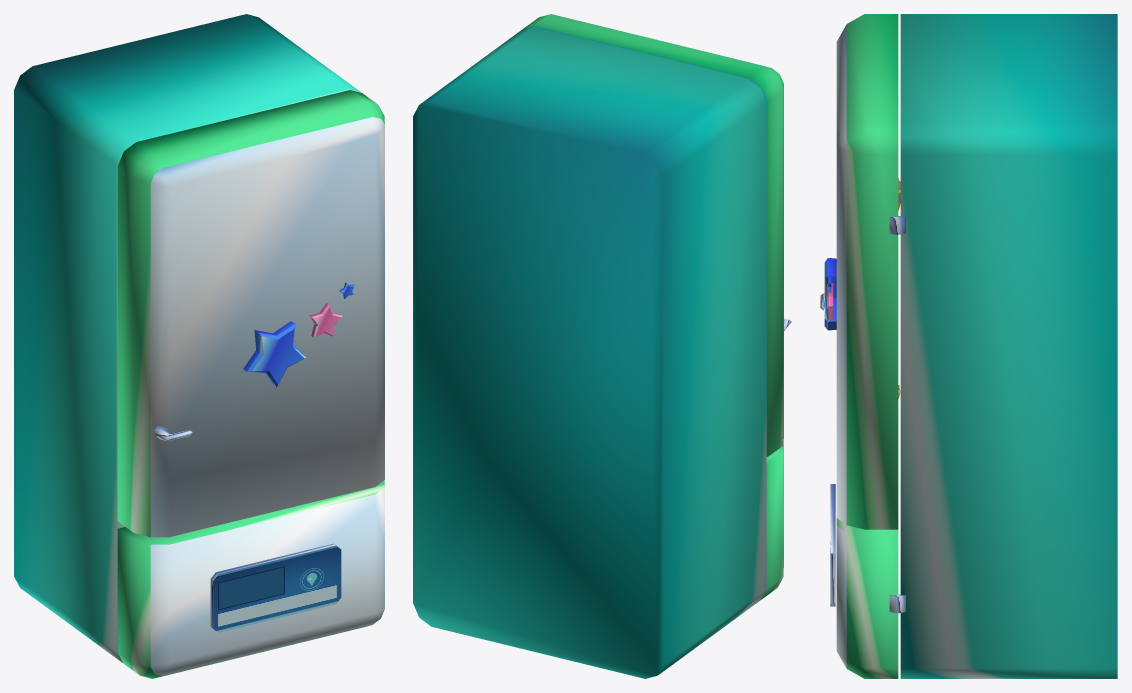
The model's file is fridge.obj.
The picture shows the model from 3 angles, left to right: view 1: azimuth 30°, elevation 25°; view 2: azimuth 150°, elevation 25°; view 3: azimuth 270°, elevation 25°; orthographic projection. The views are drawn at different scales.
Bounding box in the file's own units: 102 × 200 × 97.11.
Materials: 1 (1 with a texture image).
